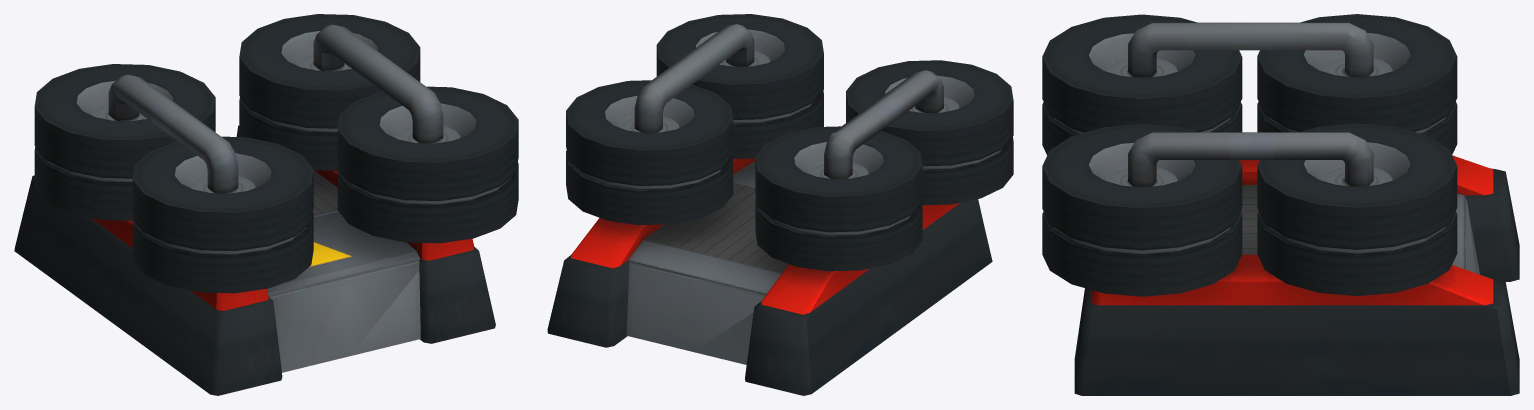
Rendered from dash panel.obj.
The picture shows the model from 3 angles, left to right: view 1: azimuth 30°, elevation 25°; view 2: azimuth 150°, elevation 25°; view 3: azimuth 270°, elevation 25°; orthographic projection. The views are drawn at different scales.
Parts seen in each view (by area): view 1: _002_cmn_obj_dashroller_ncl1_1Mesh, _000_cmn_obj_dashroller_ncl1_1Mesh, _001_cmn_obj_dashroller_ncl1_1Mesh; view 2: _002_cmn_obj_dashroller_ncl1_1Mesh, _000_cmn_obj_dashroller_ncl1_1Mesh, _001_cmn_obj_dashroller_ncl1_1Mesh; view 3: _002_cmn_obj_dashroller_ncl1_1Mesh, _001_cmn_obj_dashroller_ncl1_1Mesh, _000_cmn_obj_dashroller_ncl1_1Mesh.
Part boxes in pixels (<box>): _002_cmn_obj_dashroller_ncl1_1Mesh: <box>14,14,518,395</box>; _000_cmn_obj_dashroller_ncl1_1Mesh: <box>91,170,474,372</box>; _001_cmn_obj_dashroller_ncl1_1Mesh: <box>47,24,511,254</box>; _002_cmn_obj_dashroller_ncl1_1Mesh: <box>547,14,1013,395</box>; _000_cmn_obj_dashroller_ncl1_1Mesh: <box>571,158,959,364</box>; _001_cmn_obj_dashroller_ncl1_1Mesh: <box>572,24,1001,235</box>; _002_cmn_obj_dashroller_ncl1_1Mesh: <box>1042,14,1519,395</box>; _001_cmn_obj_dashroller_ncl1_1Mesh: <box>1053,22,1445,254</box>; _000_cmn_obj_dashroller_ncl1_1Mesh: <box>1091,155,1493,305</box>.
Size of the model in its own units: 1.72 by 0.9992 by 1.79.
